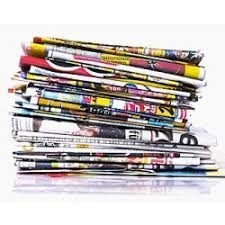paper: (6, 130, 223, 184), (13, 28, 207, 83), (7, 59, 205, 112), (3, 92, 200, 139)
